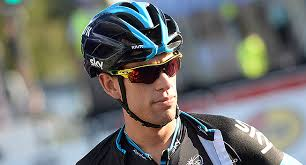helmet: (78, 1, 182, 61)
